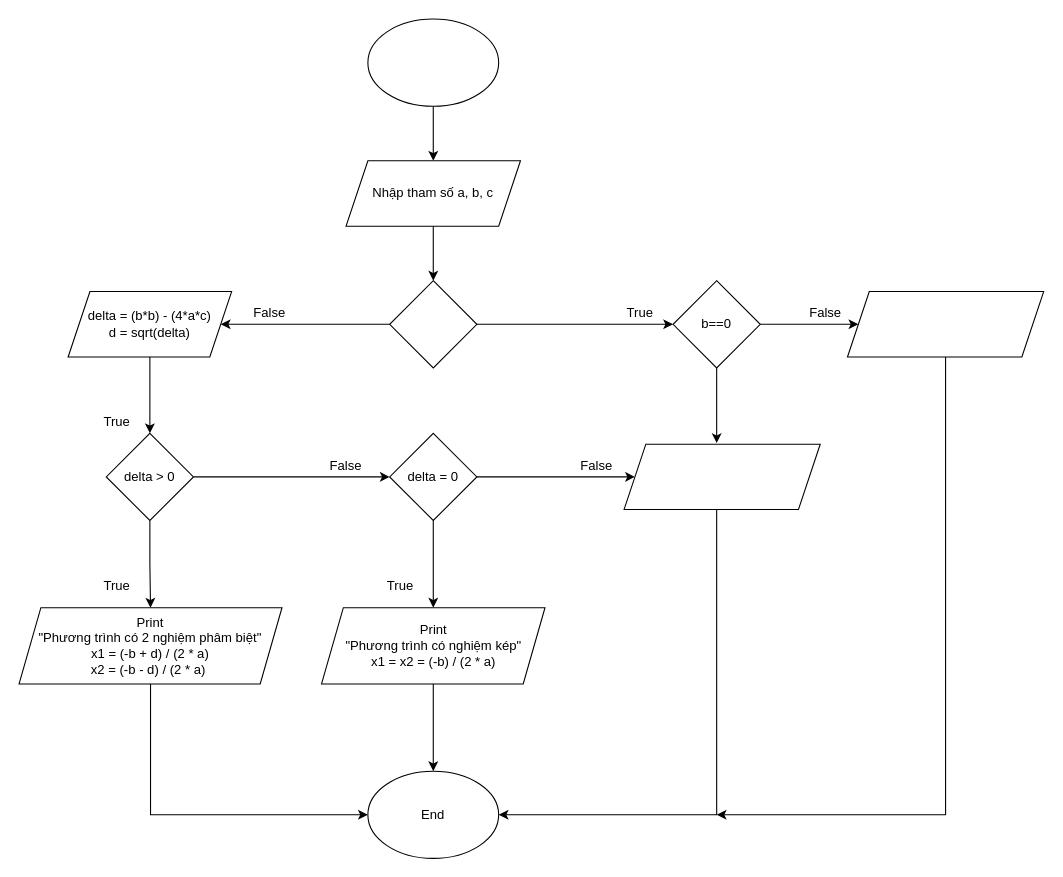
The diagram is 1063 pixels wide and 877 high, and some of its shapes have lost their labels. Here are the shapes that lost their labels. From the top down, the centre of each, then its label:
point 433,62: Begin
point 433,324: a==0
point 945,323: Print "Phương trình có 1 nghiệm" x = -c / a
point 721,476: Print "Phương trình vô nghiệm"
